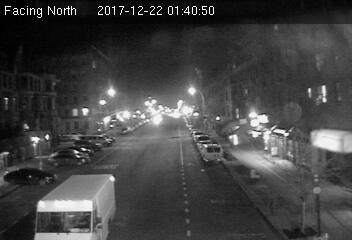truck: (29, 174, 118, 240), (202, 143, 222, 162)
